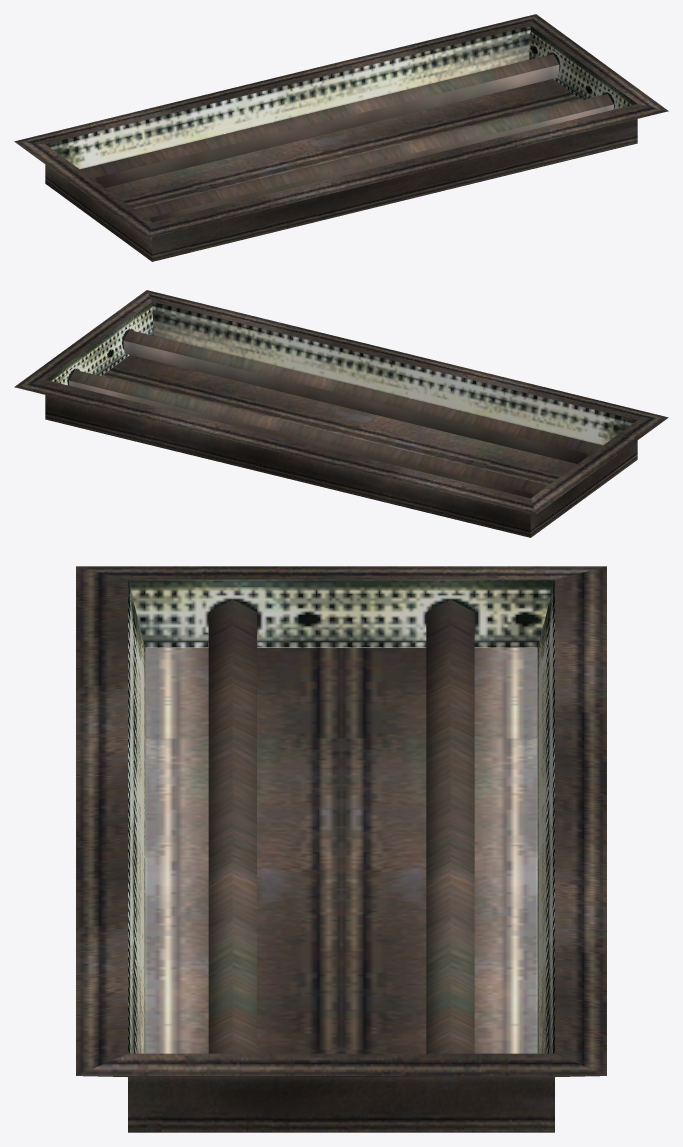
The model's file is 2bulb_flo_sl1.fbx.
3 views of the same model, one above another, from view 1: azimuth 30°, elevation 25°; view 2: azimuth 150°, elevation 25°; view 3: azimuth 270°, elevation 25° (orthographic). The views are drawn at different scales.
Parts seen in each view (by area): view 1: mesh_0; view 2: mesh_0; view 3: mesh_0.
Boxes of the visible parts, x1,y1,x2,y2 form: mesh_0: (14, 14, 668, 261); mesh_0: (14, 290, 668, 537); mesh_0: (76, 566, 606, 1132).
Size of the model in its own units: 139 by 10.07 by 61.27.
Materials: 1 (1 with a texture image).
